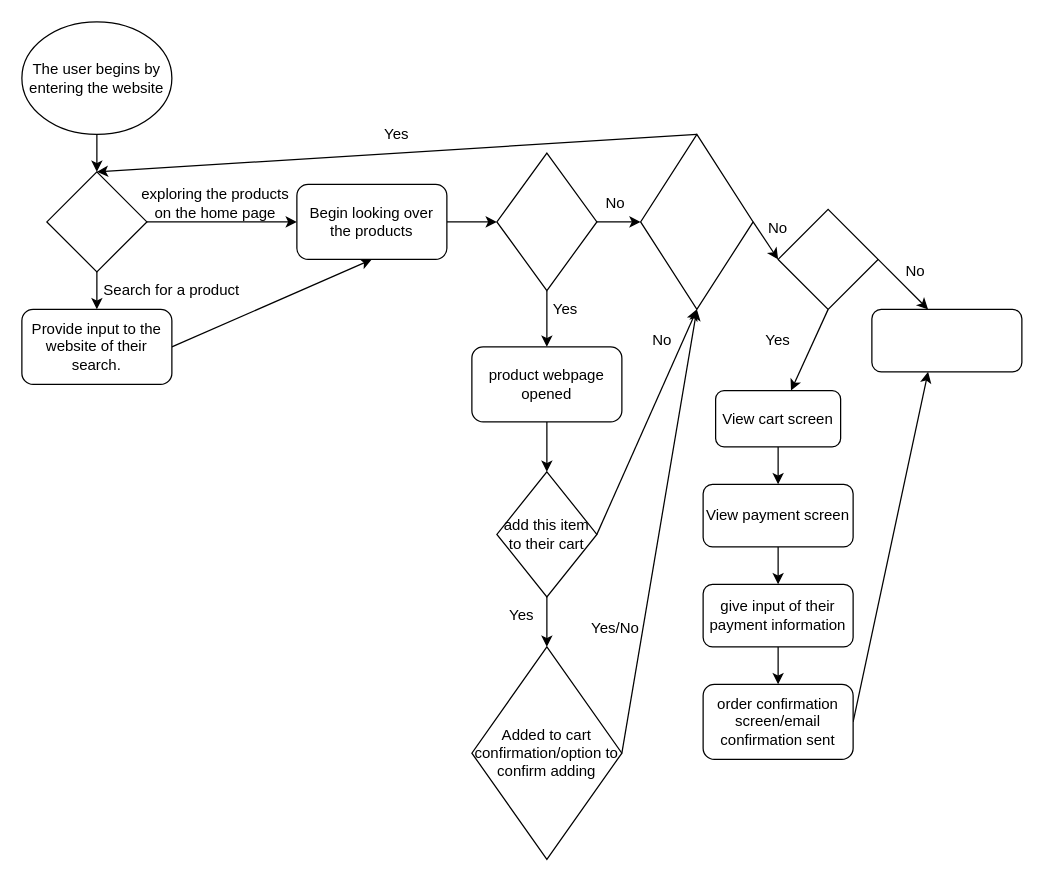
Image size: 1044x881. Some labels were removed from this diagram. The shapes that lost their labels are listed below. From the top down, each one's box as (x1, y1, x2, y2) in pixels, then its label:
(46, 171, 147, 272): option
(496, 152, 597, 291): viewing a specific product
(639, 133, 753, 309): deciding whether to continue shopping
(777, 208, 878, 309): checkout
(871, 308, 1022, 372): Leave the website
